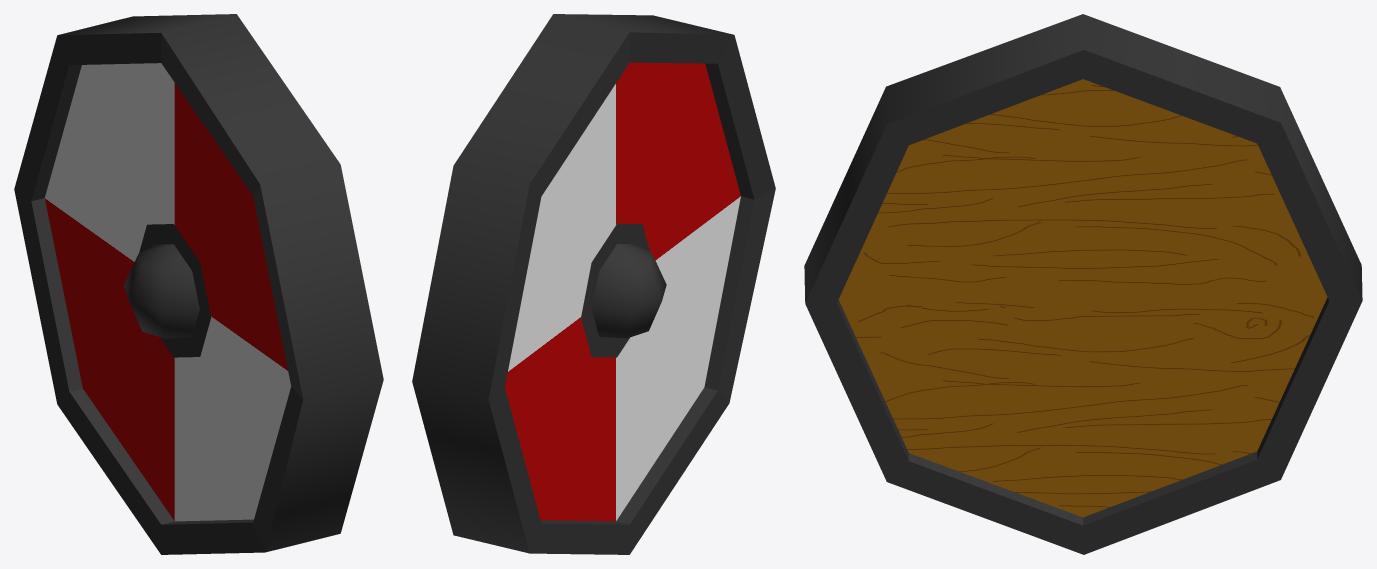
The model's file is EscudoCuarteladoVikingo.FBX.
3 views of the same model, side by side, from view 1: azimuth 30°, elevation 25°; view 2: azimuth 150°, elevation 25°; view 3: azimuth 270°, elevation 25° (orthographic). The views are drawn at different scales.
Parts seen in each view (by area): view 1: BordeEscudo, CuerpoEscudo, RemacheCentralEscudo; view 2: BordeEscudo, CuerpoEscudo, RemacheCentralEscudo; view 3: CuerpoEscudo001, BordeEscudo.
Boxes of the visible parts, left/top/right/bottom form: BordeEscudo: left=14, top=14, right=383, bottom=554; CuerpoEscudo: left=45, top=63, right=291, bottom=521; RemacheCentralEscudo: left=124, top=224, right=211, bottom=357; BordeEscudo: left=412, top=14, right=775, bottom=554; CuerpoEscudo: left=505, top=62, right=740, bottom=521; RemacheCentralEscudo: left=581, top=223, right=666, bottom=357; CuerpoEscudo001: left=838, top=79, right=1327, bottom=517; BordeEscudo: left=804, top=14, right=1362, bottom=554.
Size of the model in its own units: 17.88 by 80.38 by 80.49.
